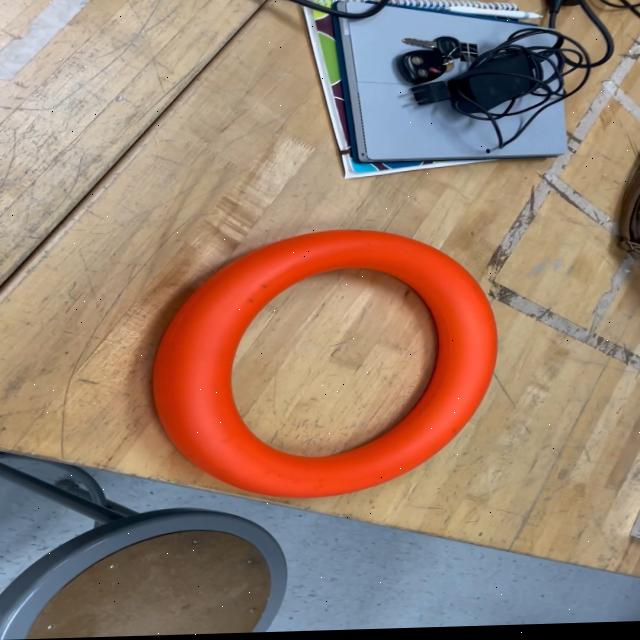note: (150, 229, 495, 504)
